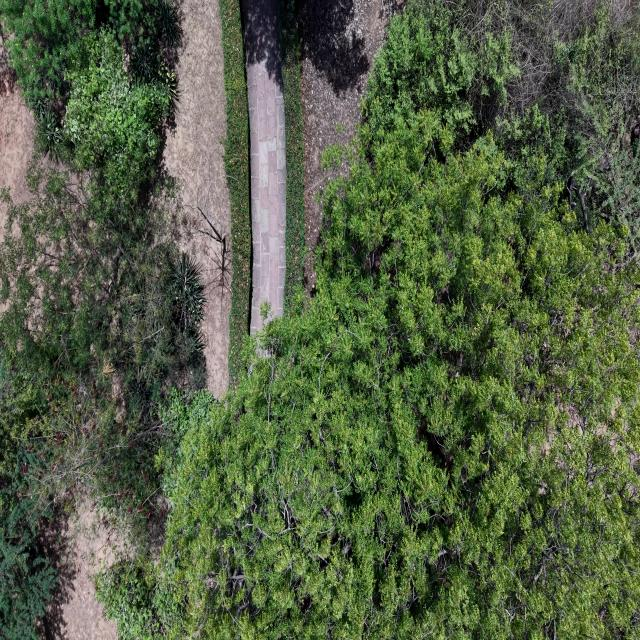DRY_AREA: (297, 0, 397, 292), (164, 0, 232, 396), (165, 0, 230, 396), (165, 0, 230, 395), (243, 0, 286, 333), (47, 500, 123, 639), (45, 506, 116, 639), (0, 30, 34, 203), (0, 89, 34, 204)
VEGETATION_TREE: (0, 0, 639, 639), (101, 0, 639, 639), (165, 113, 639, 638), (0, 0, 203, 638), (0, 170, 203, 637), (0, 171, 203, 517), (363, 2, 639, 251), (0, 0, 181, 205), (0, 0, 181, 120), (64, 30, 170, 201), (219, 0, 251, 386), (220, 0, 251, 385), (0, 451, 57, 639), (279, 0, 305, 309), (96, 560, 181, 639)
